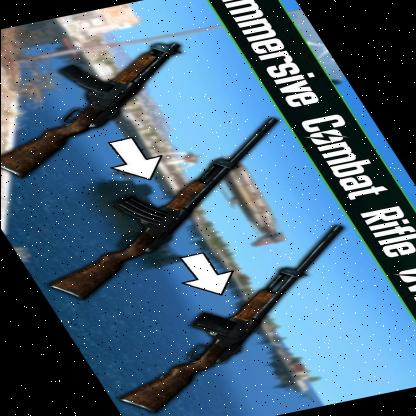rifle: (72, 275, 391, 416), (0, 34, 225, 164)
